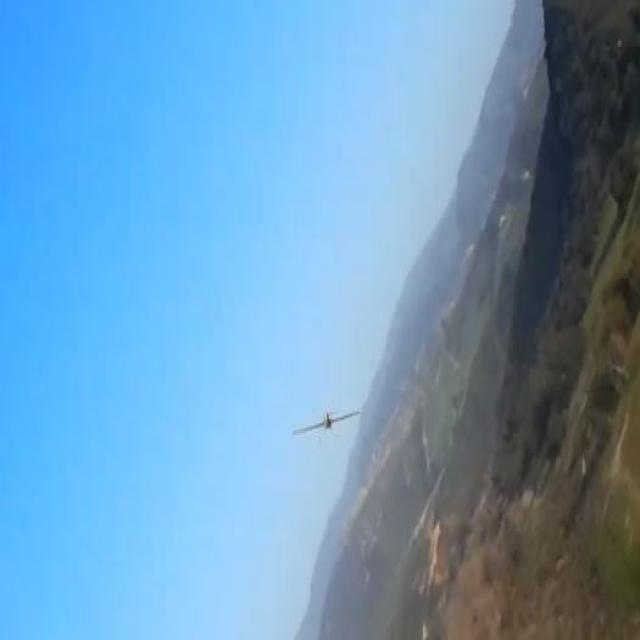iha: (318, 405, 324, 447)
